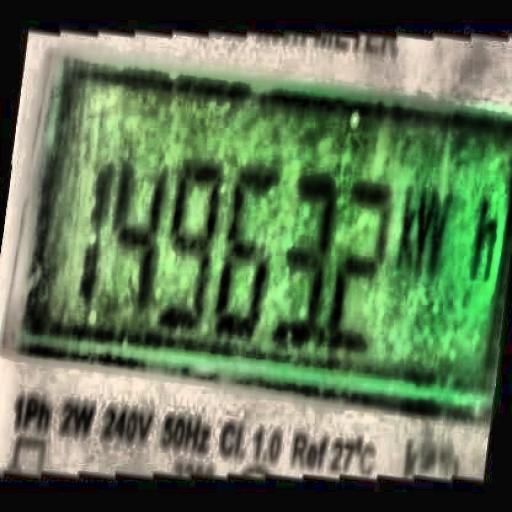DISPLAY_REGION: (50, 86, 498, 389)
SERIAL_REGION: (75, 145, 454, 360)
